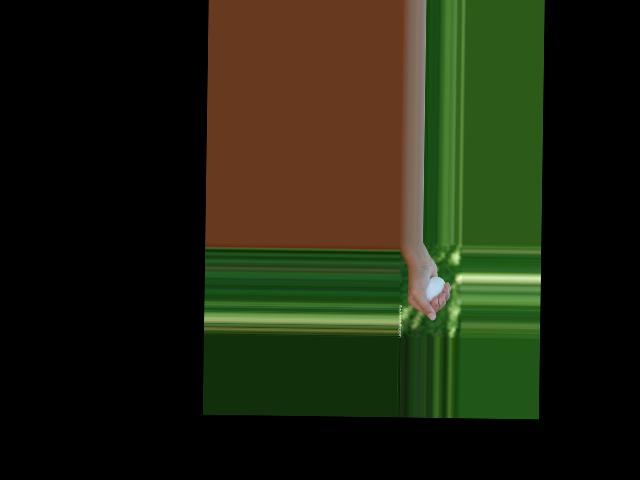egg: (425, 277, 445, 302)
